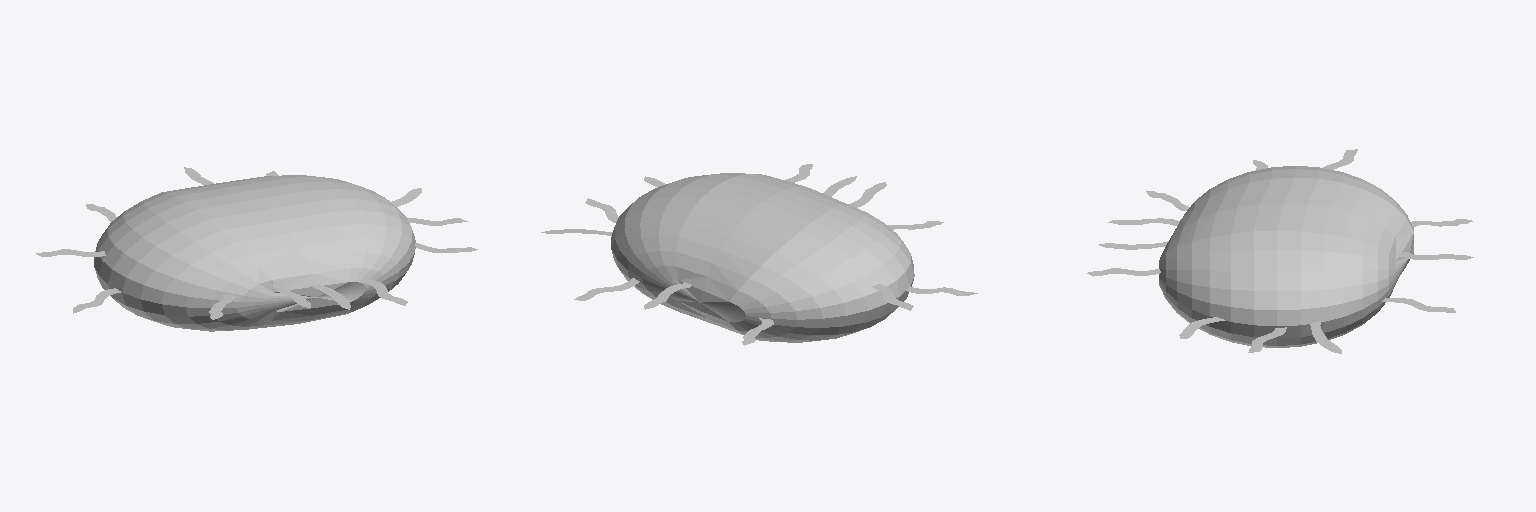
File: Symbiont.obj
3 renders of one model, left to right at view 1: azimuth 30°, elevation 25°; view 2: azimuth 150°, elevation 25°; view 3: azimuth 270°, elevation 25°, orthographic.
Parts seen in each view (by area): view 1: Plane.003; view 2: Plane.003; view 3: Plane.003.
Part boxes in pixels (bbox=[...]): Plane.003: bbox=[36, 167, 477, 331]; Plane.003: bbox=[541, 164, 977, 345]; Plane.003: bbox=[1087, 149, 1473, 353].
Bounding box in the file's own units: 3.76 × 1 × 3.22.